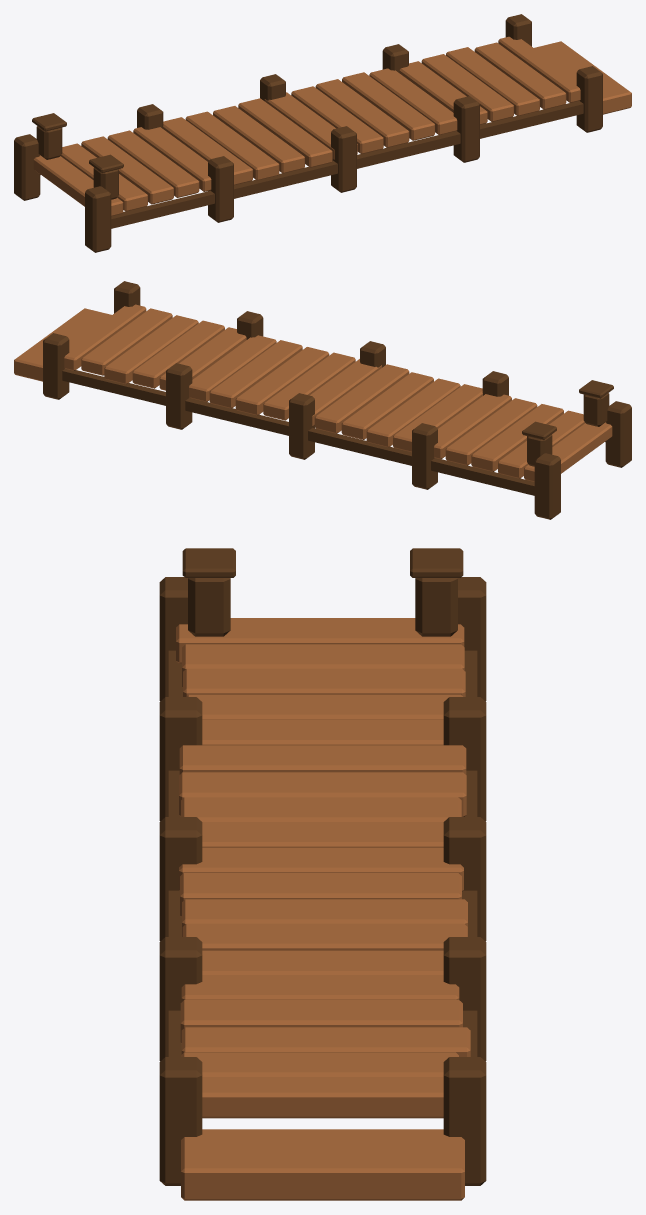
The model's file is Dock.fbx.
The picture shows the model from 3 angles, top to bottom: view 1: azimuth 30°, elevation 25°; view 2: azimuth 150°, elevation 25°; view 3: azimuth 270°, elevation 25°; orthographic projection. The views are drawn at different scales.
Parts seen in each view (by area): view 1: Deck, Post, Step; view 2: Deck, Post, Step; view 3: Deck, Post, Step.
Part boxes in pixels (x1,y1,x2,y2): Deck: (33, 36, 580, 216); Post: (14, 14, 602, 252); Step: (534, 41, 631, 114); Deck: (64, 304, 612, 481); Post: (43, 281, 631, 519); Step: (14, 308, 111, 381); Deck: (176, 618, 470, 1118); Post: (159, 548, 486, 1185); Step: (181, 1129, 464, 1200).
Bounding box in the file's own units: 17.7 × 2.42 × 4.6.
